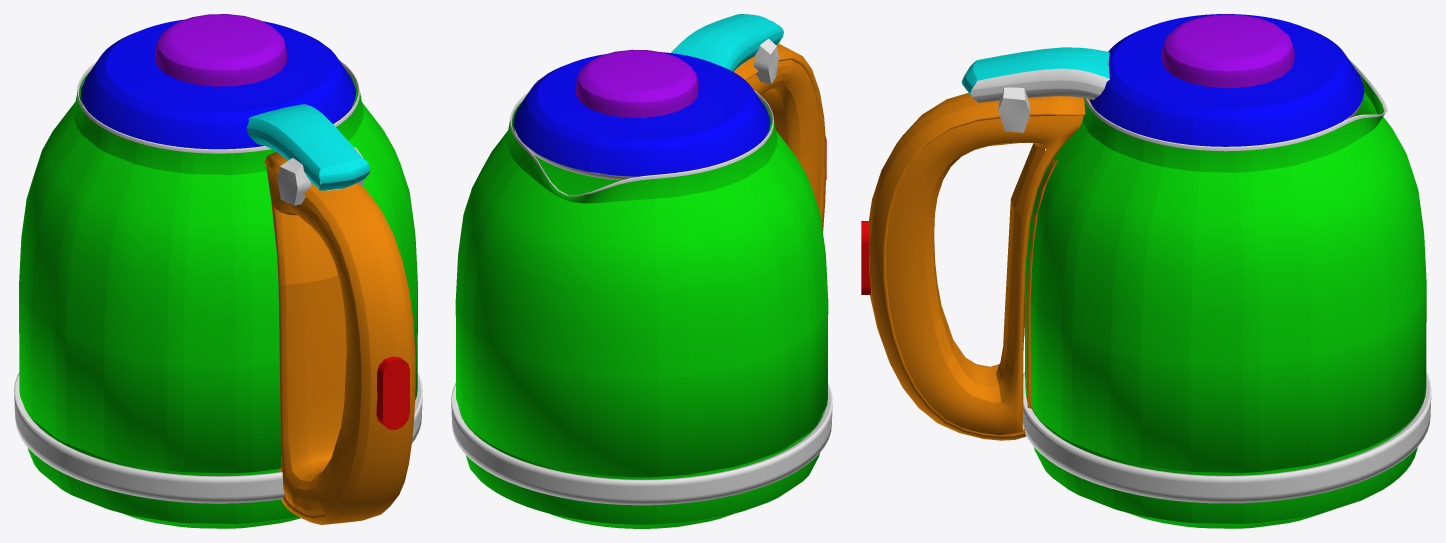
Rendered from jarr.fbx.
The picture shows the model from 3 angles, left to right: view 1: azimuth 30°, elevation 25°; view 2: azimuth 150°, elevation 25°; view 3: azimuth 270°, elevation 25°; orthographic projection. The views are drawn at different scales.
Visible parts, largest first — view 1: polySurface317, polySurface320, polySurface339, polySurface340, polySurface319, polySurface316, polySurface321, polySurface342, polySurface324, polySurface318, polySurface325, polySurface328; view 2: polySurface317, polySurface319, polySurface339, polySurface340, polySurface316, polySurface320, polySurface321, polySurface318, polySurface324, polySurface341, polySurface333; view 3: polySurface317, polySurface320, polySurface319, polySurface339, polySurface340, polySurface316, polySurface323, polySurface321, polySurface318, polySurface329.
Part boxes in pixels (x1,y1,x2,y2): polySurface317: (19,70,417,528); polySurface320: (264,152,415,524); polySurface339: (81,32,355,149); polySurface340: (106,19,330,112); polySurface319: (14,372,422,503); polySurface316: (155,14,286,86); polySurface321: (249,104,362,168); polySurface342: (376,356,409,429); polySurface324: (246,118,320,188); polySurface318: (77,59,359,153); polySurface325: (319,158,370,190); polySurface328: (277,167,297,205); polySurface317: (455,101,828,528); polySurface319: (451,383,832,505); polySurface339: (513,65,770,176); polySurface340: (537,52,746,139); polySurface316: (576,49,698,117); polySurface320: (734,43,826,231); polySurface321: (671,14,776,66); polySurface318: (510,90,773,196); polySurface324: (721,24,783,71); polySurface341: (514,109,769,180); polySurface333: (754,46,770,84); polySurface317: (1025,72,1426,528); polySurface320: (868,92,1090,440); polySurface319: (1022,371,1431,503); polySurface339: (1089,28,1364,146); polySurface340: (1112,14,1338,109); polySurface316: (1161,14,1294,88); polySurface323: (971,68,1109,102); polySurface321: (972,47,1109,80); polySurface318: (1084,58,1387,151); polySurface329: (998,98,1030,132).
Size of the model in its own units: 12.88 by 14.93 by 17.85.
